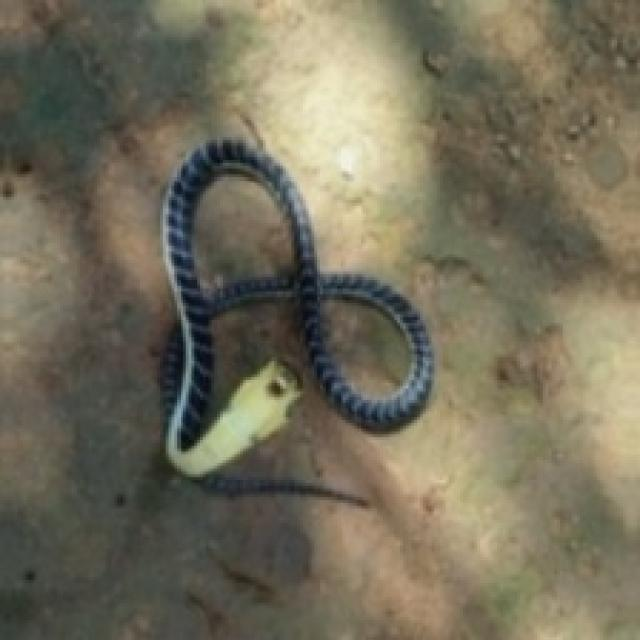king cobra: (163, 137, 431, 500), (191, 171, 297, 291), (317, 294, 409, 397)
